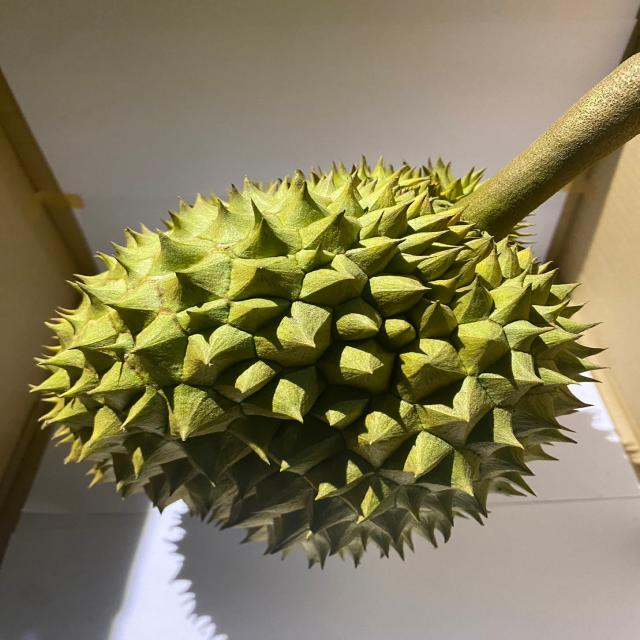immature: (30, 154, 610, 570)
